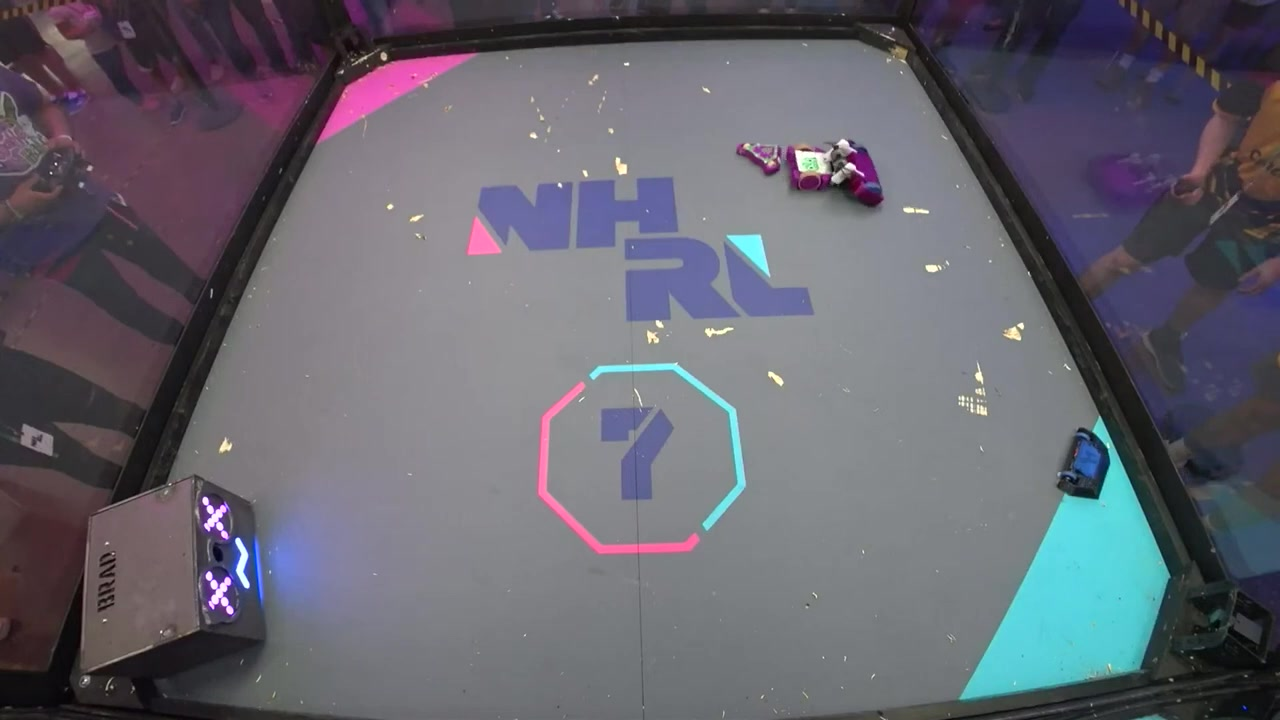combatbot: (828, 139, 887, 215), (786, 144, 832, 194)
housebot: (78, 474, 268, 677)
minibot: (1053, 425, 1114, 504), (738, 140, 782, 169)
